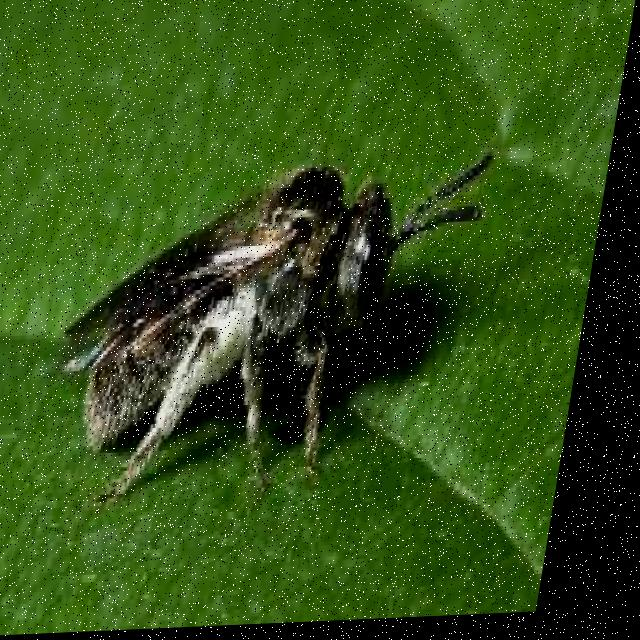Lasioglossum: (28, 125, 513, 489)
